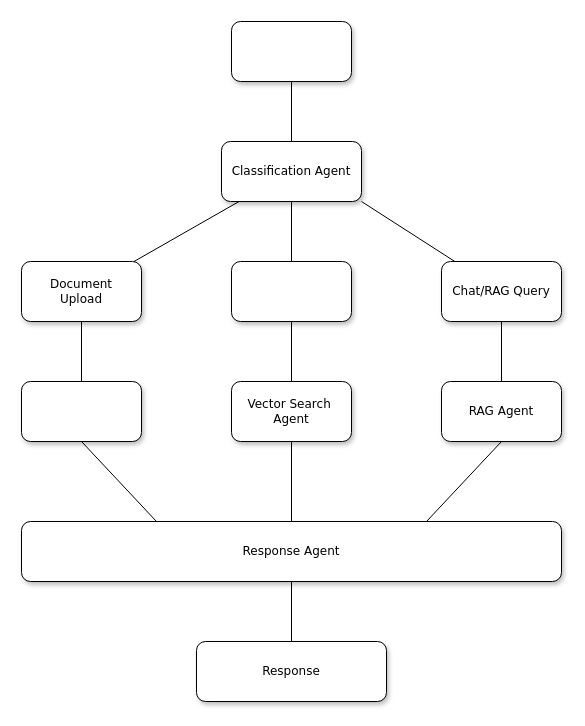
This 585x726 diagram has some shape labels left out. Here are the shapes that lost their labels. From the top down, the centre of each, then its label:
(292,52): User Input
(292,292): Search Query
(82,412): File Processing Agent
